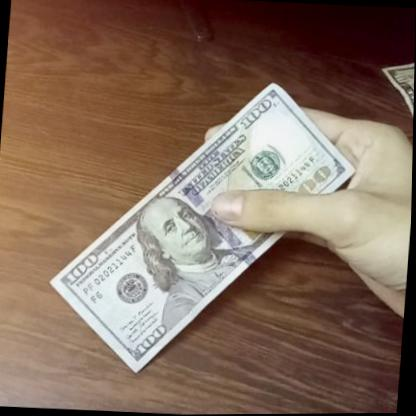dollar_front: (44, 71, 360, 386)
